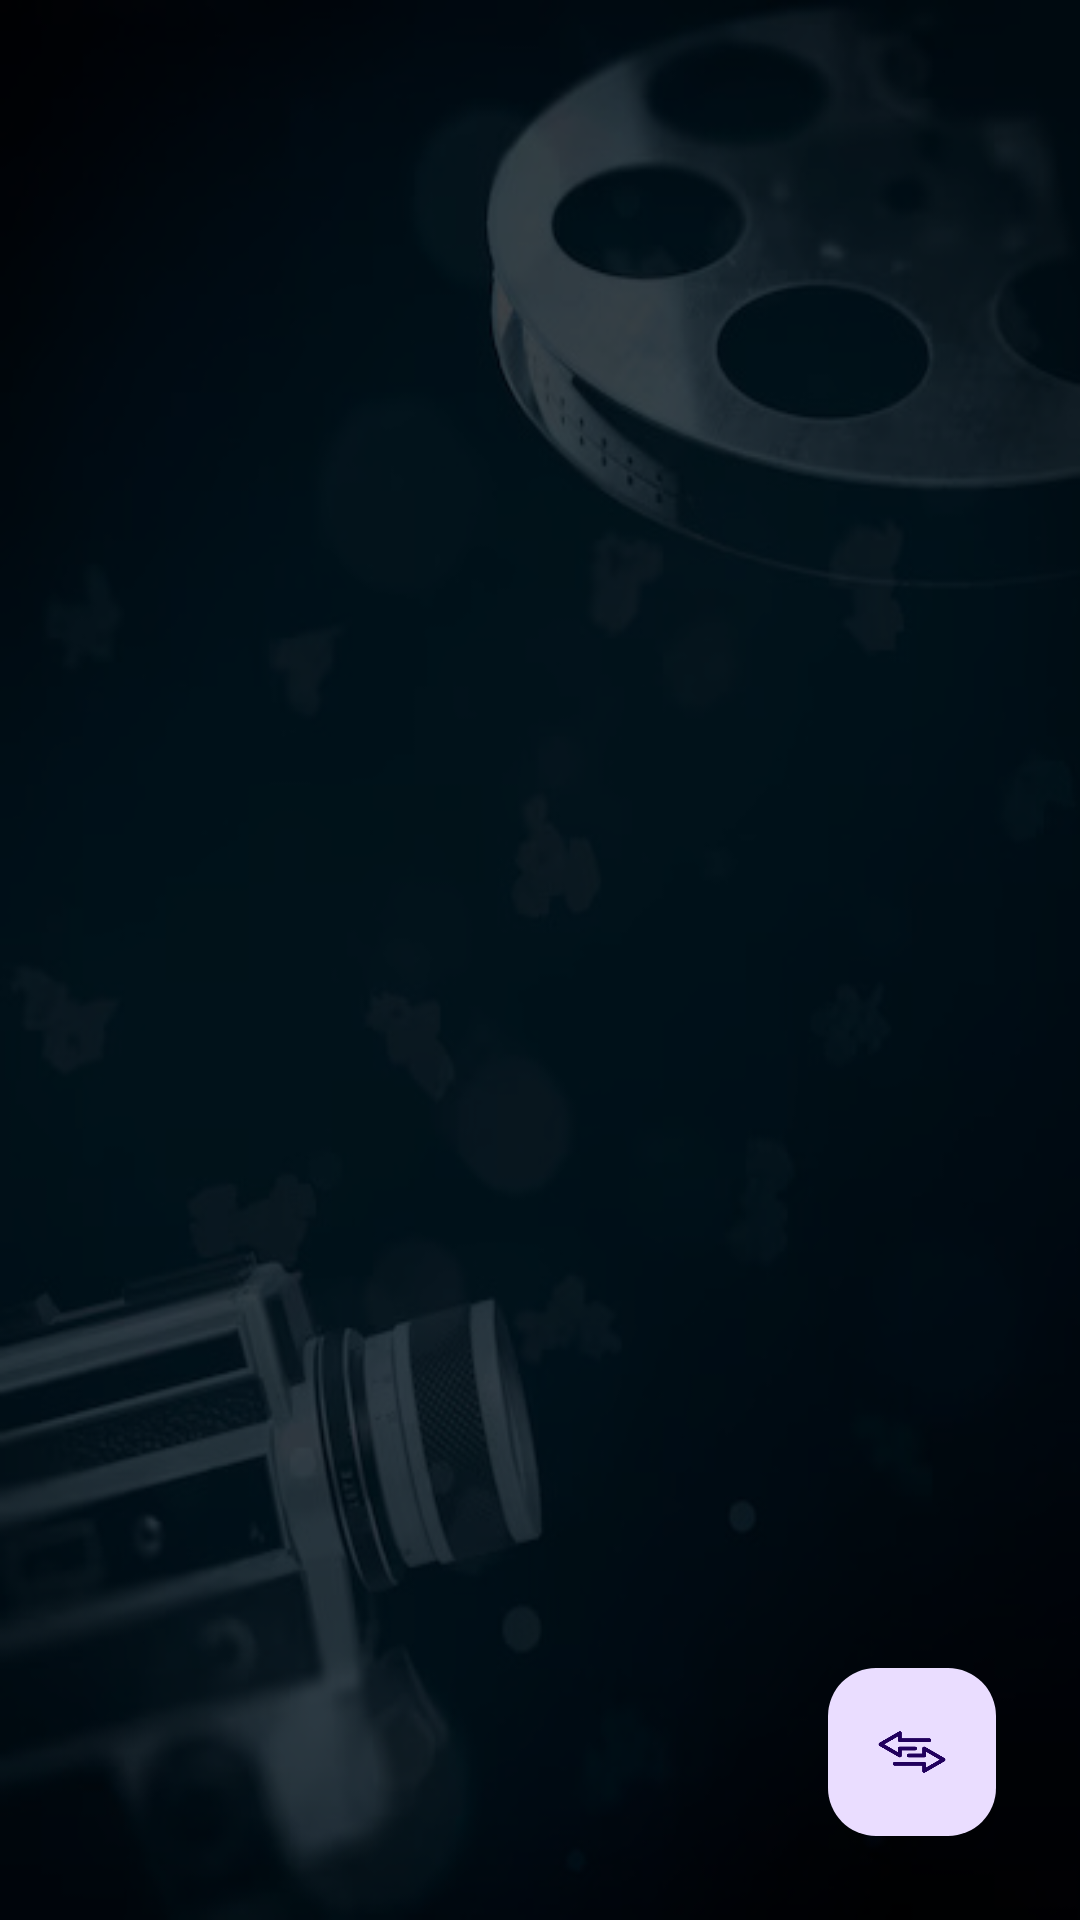

Icon click points for this 1080×1920 phone screenshot, format (x,y):
trans: (912,1752)
